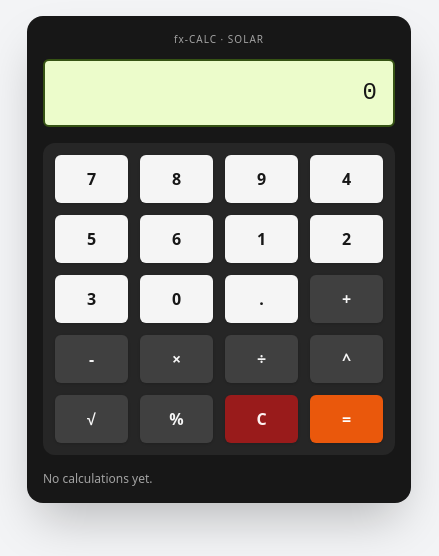
Scenario: Calculator › performs a calculation end-to-end and shows the result
The image size is (439, 556).
Click the button "2": (346, 239) [310,215,383,263]
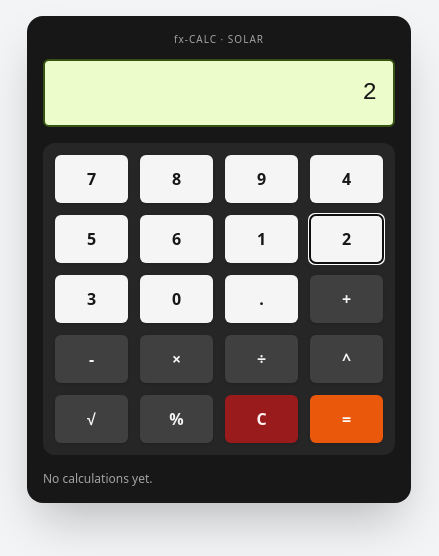
Click the button "+": (346, 299) [310,275,383,323]
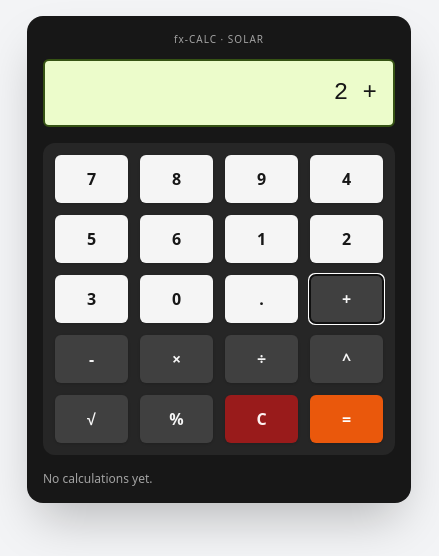
Click the button "3": (92, 299) [55,275,128,323]
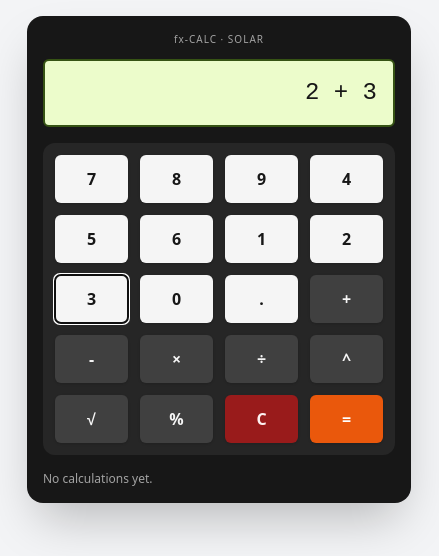
Click the button "=": (346, 419) [310,395,383,443]
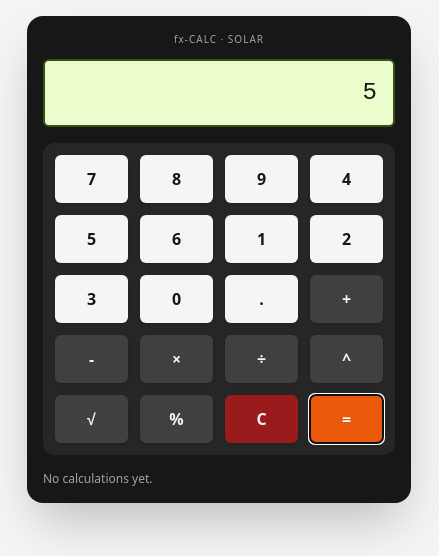
Expected: the text with test id "display" reads "5", [363,79,377,106]
